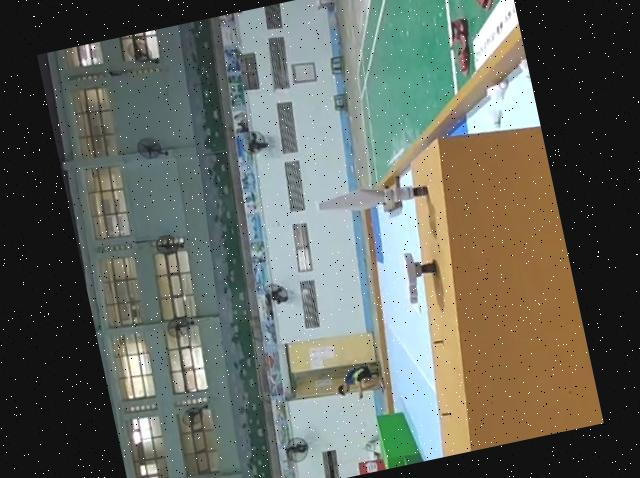Hand: (397, 247, 444, 309)
Sph: (316, 173, 431, 221)
